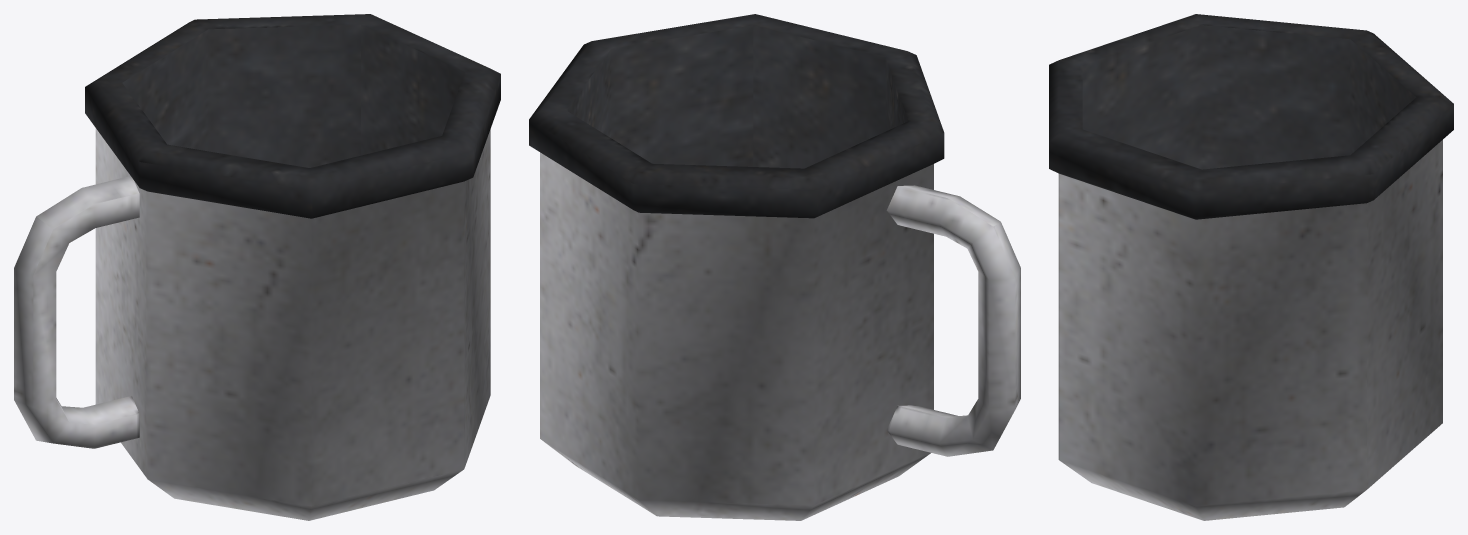
File: Cup.glb
3 renders of one model, left to right at view 1: azimuth 30°, elevation 25°; view 2: azimuth 150°, elevation 25°; view 3: azimuth 270°, elevation 25°, orthographic.
Visible parts, largest first — view 1: Cup; view 2: Cup; view 3: Cup.
Boxes of the visible parts, <box> form: Cup: <box>14,14,500,520</box>; Cup: <box>529,14,1020,520</box>; Cup: <box>1049,14,1453,520</box>.
Bounding box in the file's own units: 0.2657 × 0.1971 × 0.2036.
Materials: 1 (1 with a texture image).
